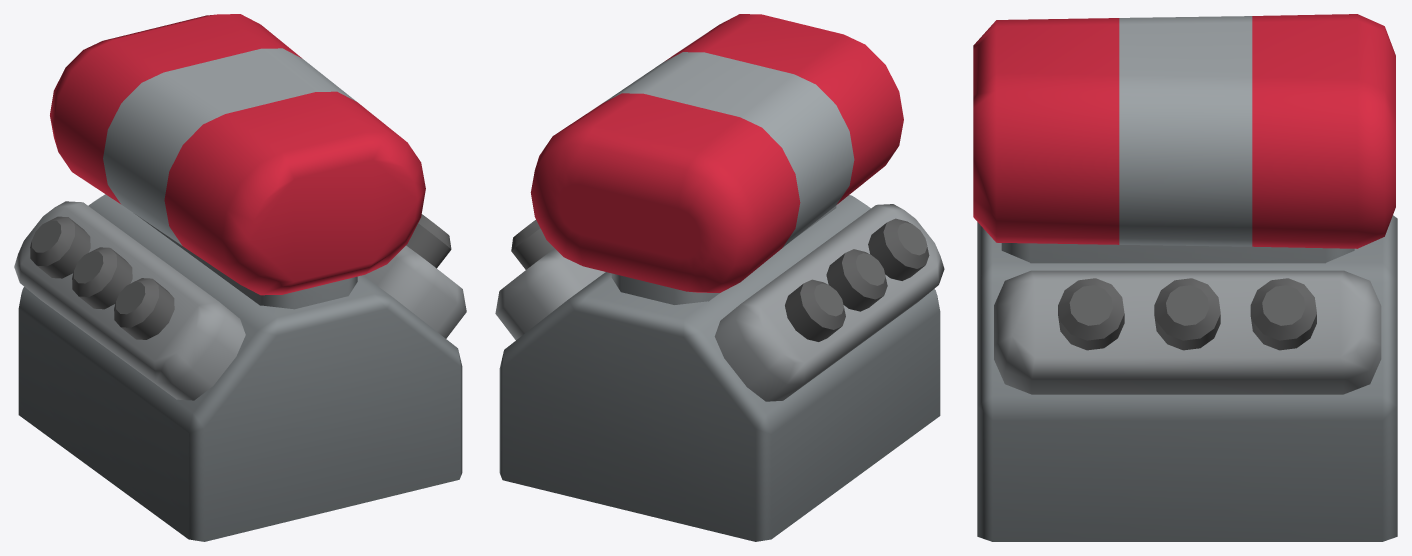
The model's file is Car_13_Engine.fbx.
3 renders of one model, left to right at view 1: azimuth 30°, elevation 25°; view 2: azimuth 150°, elevation 25°; view 3: azimuth 270°, elevation 25°, orthographic. The views are drawn at different scales.
Visible parts, largest first — view 1: Car_13_Engine; view 2: Car_13_Engine; view 3: Car_13_Engine.
Boxes of the visible parts, x1,y1,x2,y2 form: Car_13_Engine: (14, 14, 466, 541); Car_13_Engine: (495, 14, 944, 541); Car_13_Engine: (973, 14, 1397, 541).
Size of the model in its own units: 73.58 by 72.05 by 77.86.
